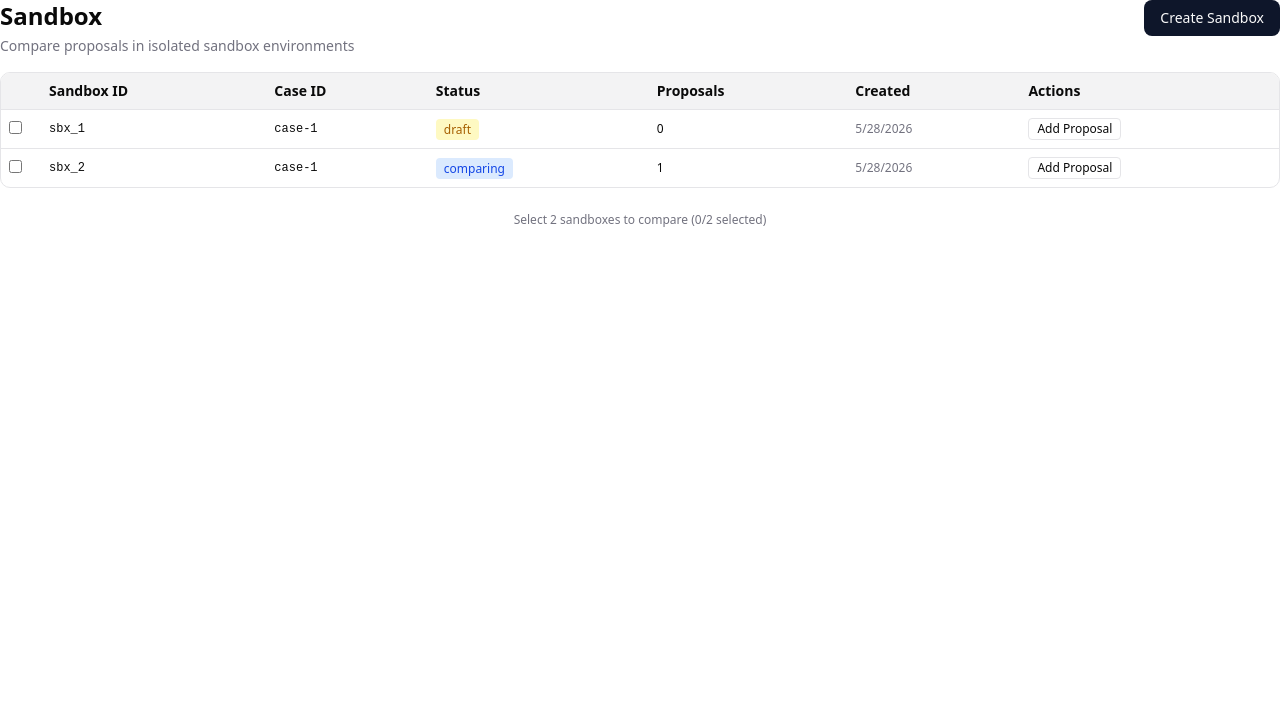
Test case: SandboxCompare › opens add proposal dialog
Expected: the text "sbx_1" is shown, [41,110,266,148]
What coordinates should you click on to do the following:
click the button "Add Proposal" in the row of "sbx_1"
I would click on:
 (1075, 129)
Its box is [1028,118,1121,140].
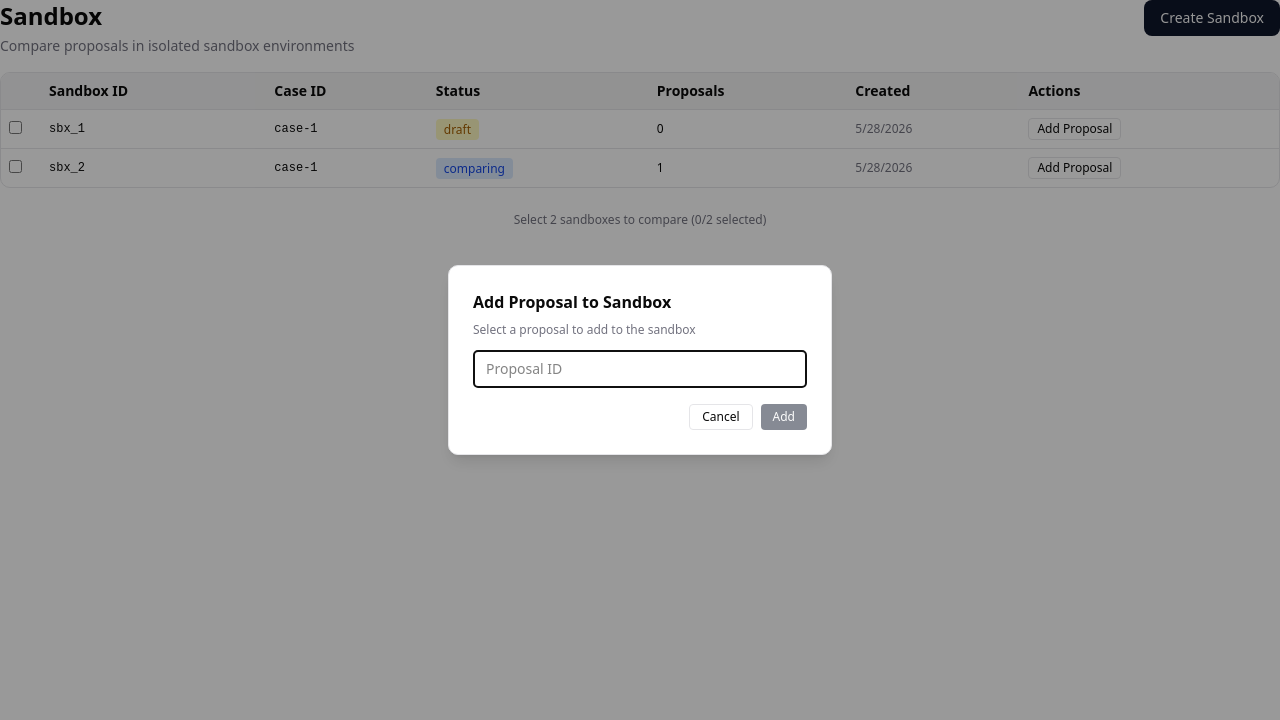
Now the text "Select a proposal to add to the sandbox" is shown, box [473,321,696,338]
